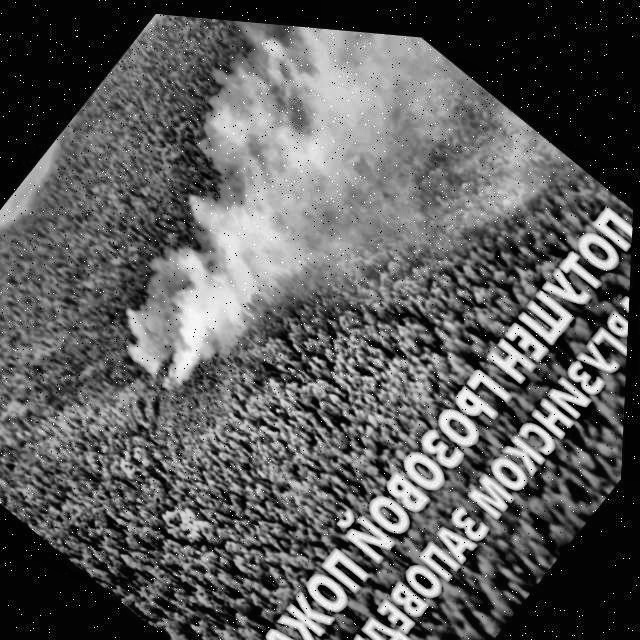Smoke: (52, 5, 459, 426)
